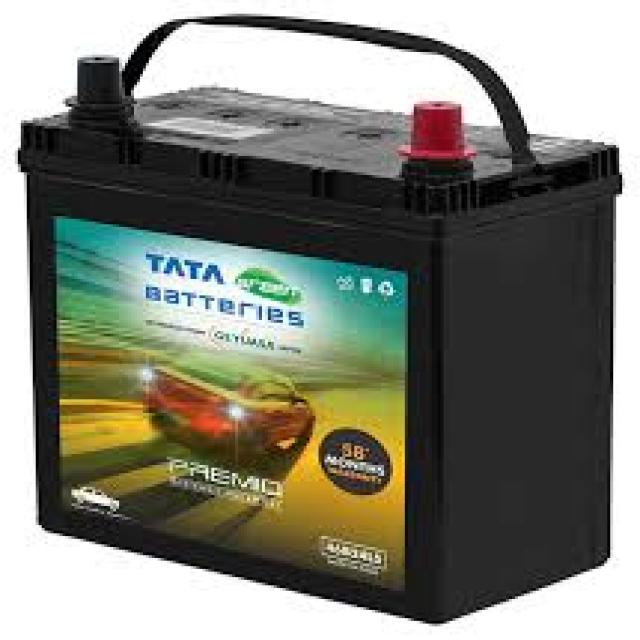Battery: (21, 14, 622, 626)
